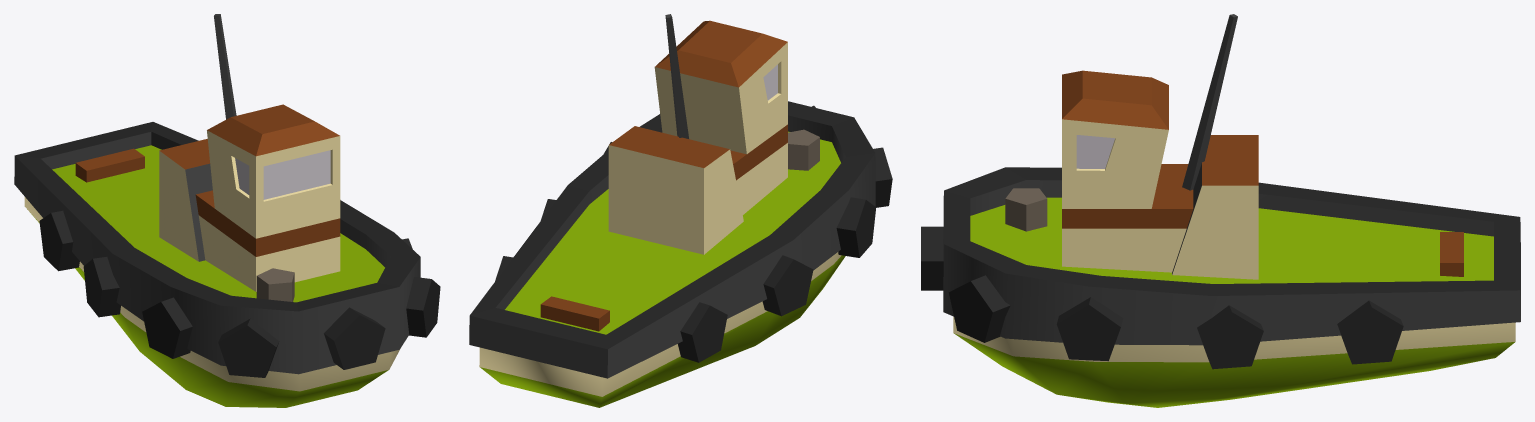
File: tugboat.fbx
3 views of the same model, side by side, from view 1: azimuth 30°, elevation 25°; view 2: azimuth 150°, elevation 25°; view 3: azimuth 270°, elevation 25° (orthographic). The views are drawn at different scales.
Parts seen in each view (by area): view 1: tug_boat; view 2: tug_boat; view 3: tug_boat.
Boxes of the visible parts, x1,y1,x2,y2 form: tug_boat: (14,14,440,407); tug_boat: (469,14,892,407); tug_boat: (921,14,1520,407).
Bounding box in the file's own units: 14.02 × 17.37 × 25.91.
1 material, 1 textured.
